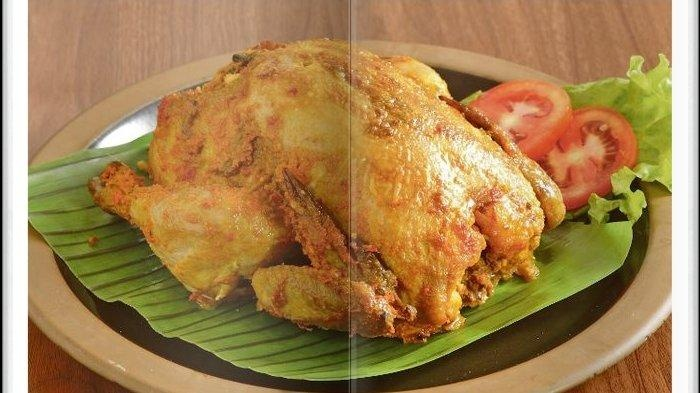ayam_betutu: (92, 37, 464, 346)
